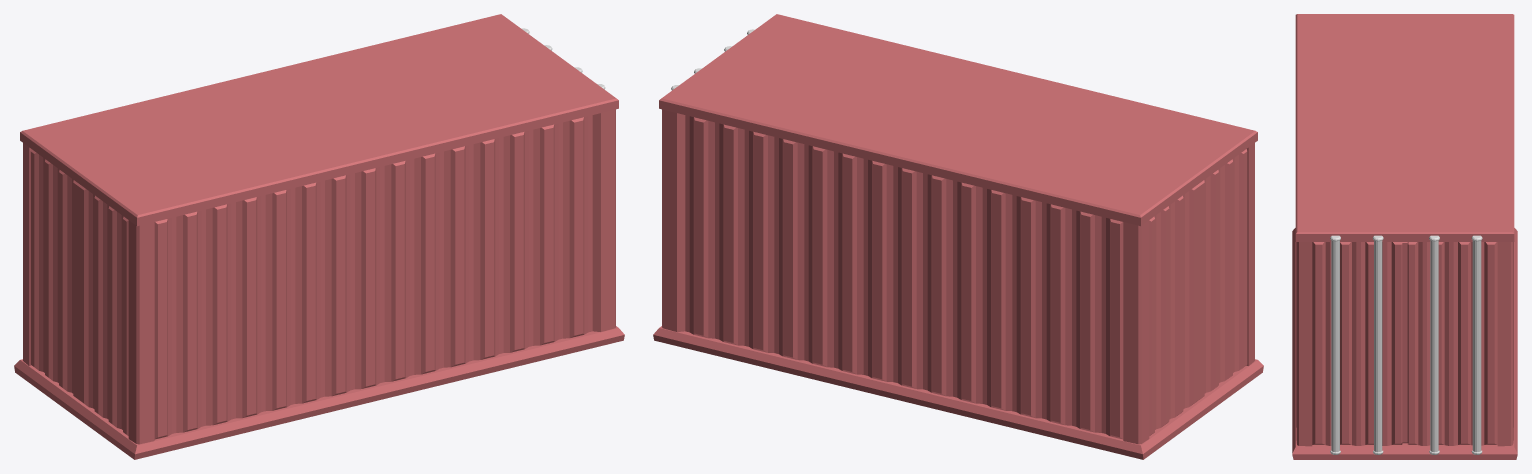
The model's file is Container.fbx.
3 views of the same model, side by side, from view 1: azimuth 30°, elevation 25°; view 2: azimuth 150°, elevation 25°; view 3: azimuth 270°, elevation 25° (orthographic). The views are drawn at different scales.
Parts seen in each view (by area): view 1: Contanier; view 2: Contanier; view 3: Contanier.
Boxes of the visible parts, x1,y1,x2,y2 form: Contanier: [14, 14, 624, 459]; Contanier: [653, 14, 1263, 459]; Contanier: [1292, 14, 1517, 459].
Size of the model in its own units: 705 by 331 by 300.
